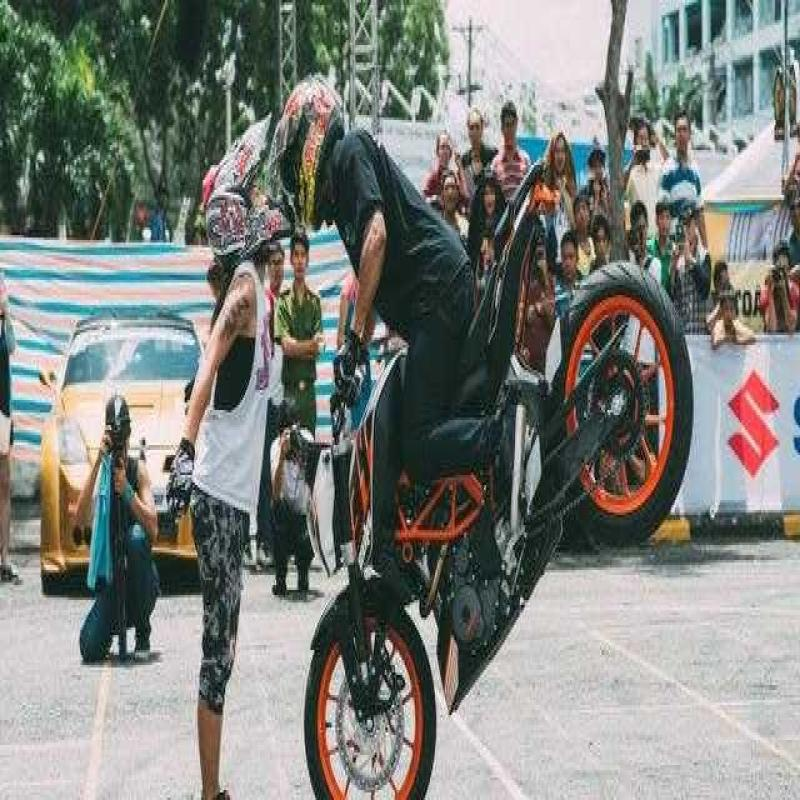bike: (307, 165, 700, 800)
